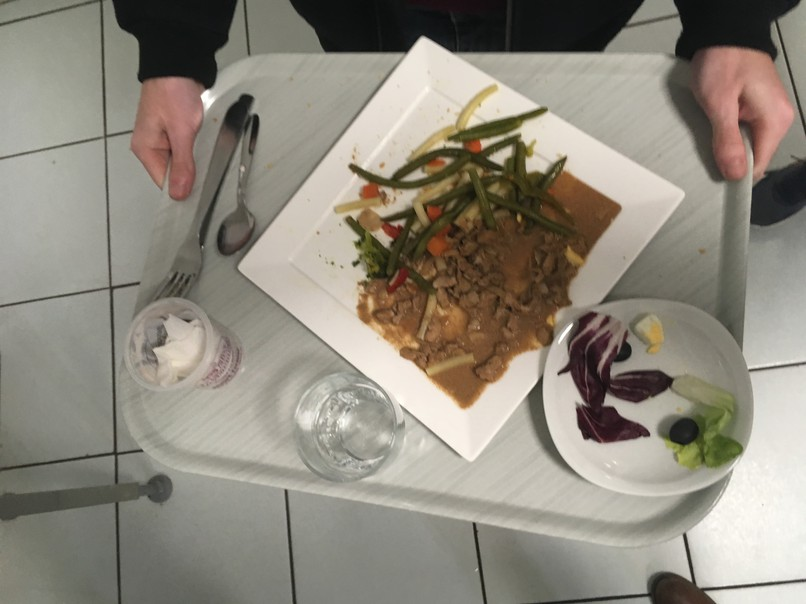cup: (290, 368, 411, 505)
cutlery: (153, 92, 279, 298)
orga: (459, 229, 562, 379), (577, 311, 670, 439), (458, 102, 548, 214), (355, 158, 447, 260), (373, 268, 443, 386), (677, 374, 740, 467)
trash: (118, 289, 246, 395)
